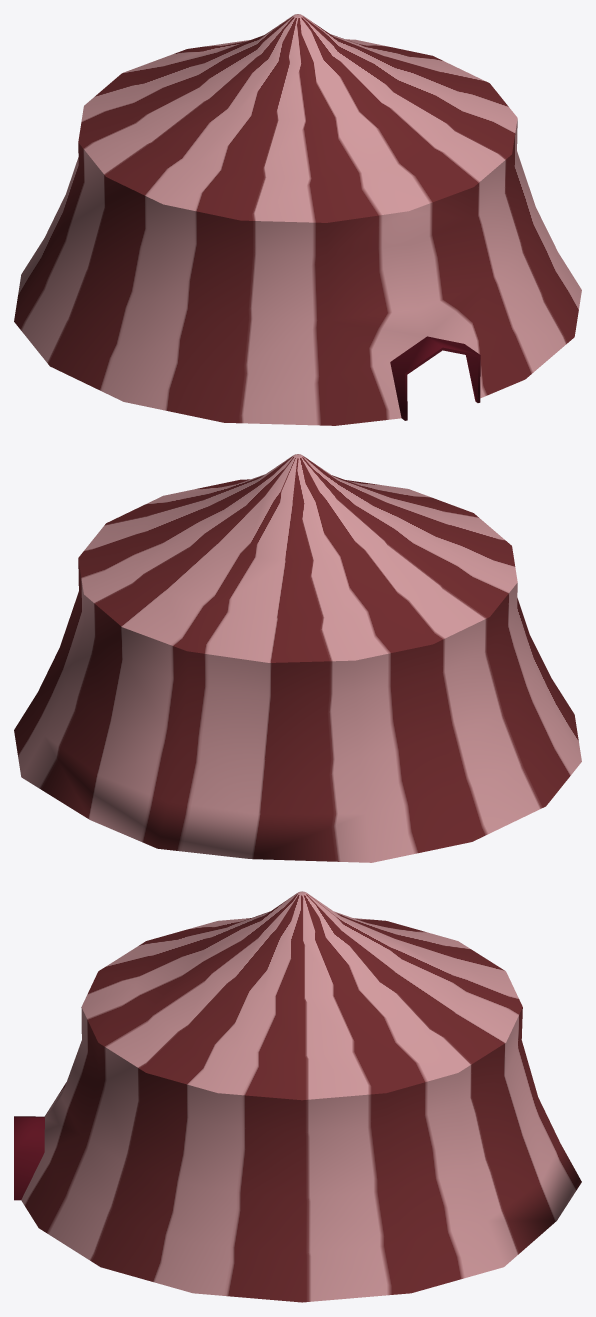
The model's file is CircusTentModel.fbx.
3 renders of one model, top to bottom at view 1: azimuth 30°, elevation 25°; view 2: azimuth 150°, elevation 25°; view 3: azimuth 270°, elevation 25°, orthographic.
Visible parts, largest first — view 1: Circus_Tent; view 2: Circus_Tent; view 3: Circus_Tent.
Boxes of the visible parts, x1,y1,x2,y2 form: Circus_Tent: [14, 14, 581, 425]; Circus_Tent: [14, 454, 581, 862]; Circus_Tent: [14, 891, 581, 1302].
Bounding box in the file's own units: 628 × 351 × 626.
